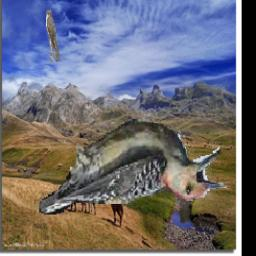Cuckoo: (46, 11, 61, 63)
Woodpecker: (39, 119, 229, 215)
